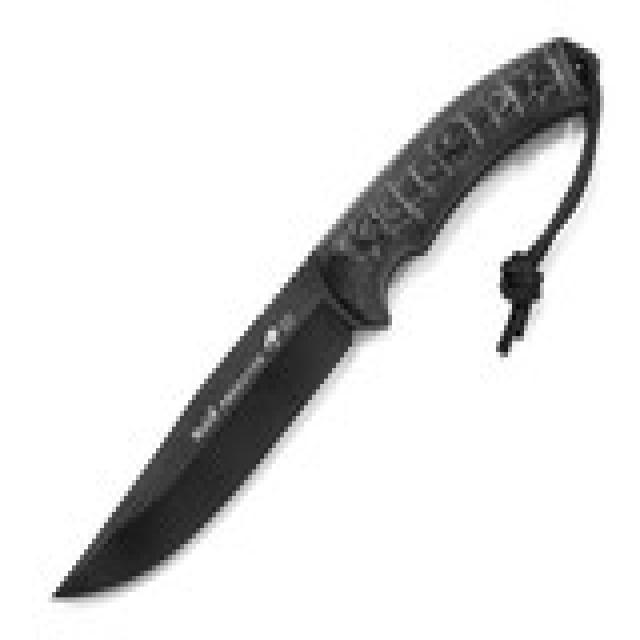Knife: (38, 38, 603, 606)
